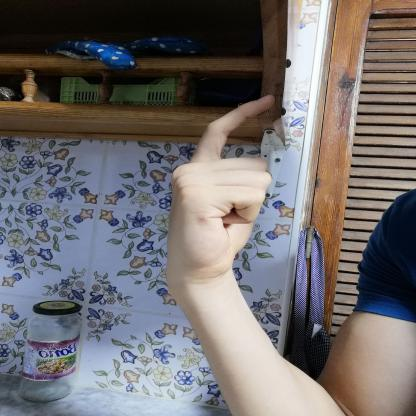RAA: (150, 87, 290, 292)
